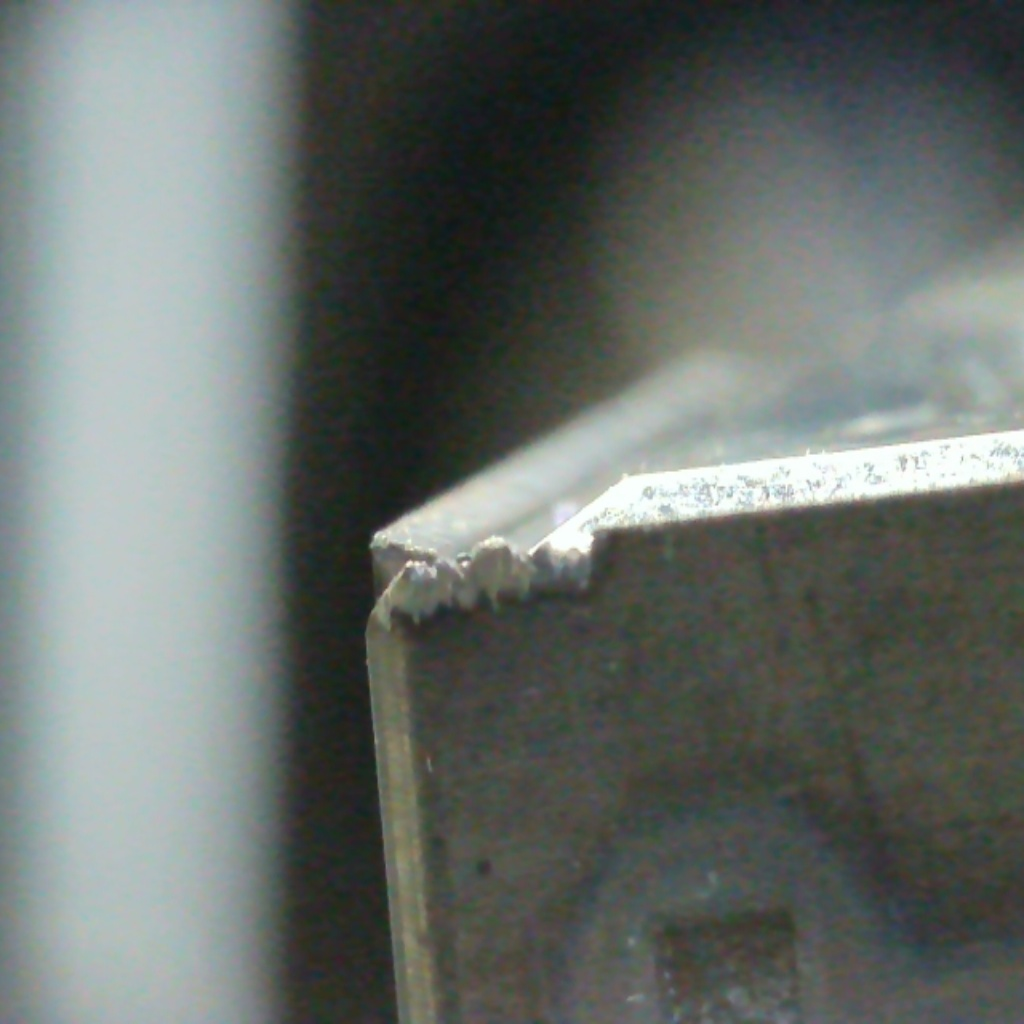flank_wear: (369, 538, 604, 629)
